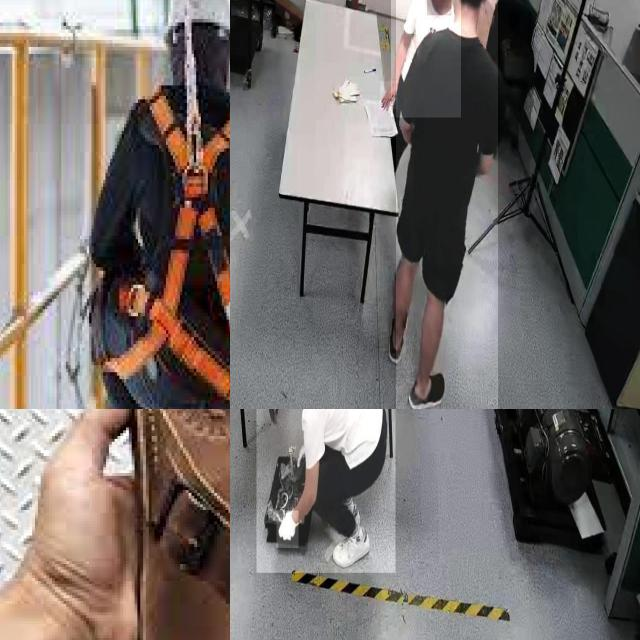Harness: (139, 80, 230, 408)
Sandals: (0, 409, 230, 640)
face_mask: (426, 0, 451, 15)
hand_glove: (277, 511, 299, 548)
hand_noglove: (380, 81, 398, 111)
person: (395, 0, 498, 409), (256, 409, 395, 573), (391, 0, 461, 117)
shoes: (330, 522, 374, 572), (406, 368, 449, 409), (386, 304, 410, 364)
